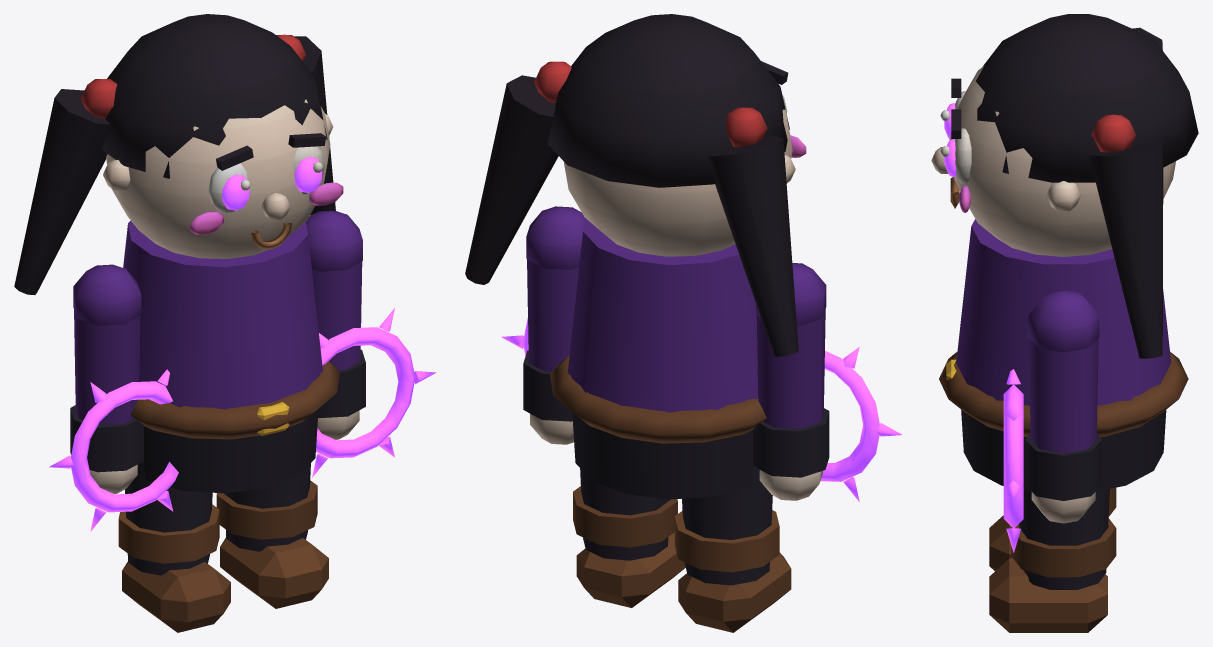
The model's file is hero_lilith.glb.
The picture shows the model from 3 angles, left to right: view 1: azimuth 30°, elevation 25°; view 2: azimuth 150°, elevation 25°; view 3: azimuth 270°, elevation 25°; orthographic projection. The views are drawn at different scales.
Visible parts, largest first — view 1: body_t0_palette, arml_t0_palette, legl_t0_palette, legr_t0_palette, armr_t0_palette, arml_t0_shadow_glow, armr_t0_shadow_glow, body_t0_shadow_glow; view 2: body_t0_palette, legl_t0_palette, arml_t0_palette, legr_t0_palette, armr_t0_palette, arml_t0_shadow_glow; view 3: body_t0_palette, armr_t0_palette, legr_t0_palette, armr_t0_shadow_glow, legl_t0_palette, body_t0_shadow_glow.
Boxes of the visible parts, x1,y1,x2,y2 form: body_t0_palette: (14,14,343,493); arml_t0_palette: (70,264,143,493); legl_t0_palette: (118,462,230,632); legr_t0_palette: (216,463,328,608); armr_t0_palette: (306,210,365,439); arml_t0_shadow_glow: (49,369,178,531); armr_t0_shadow_glow: (312,308,436,477); body_t0_shadow_glow: (222,157,322,210); body_t0_palette: (465,14,806,499); legl_t0_palette: (674,467,791,632); arml_t0_palette: (753,263,829,500); legr_t0_palette: (573,468,685,607); armr_t0_palette: (523,206,585,444); arml_t0_shadow_glow: (820,347,902,501); body_t0_palette: (931,14,1198,491); armr_t0_palette: (1025,289,1102,523); legr_t0_palette: (989,489,1116,632); armr_t0_shadow_glow: (1003,369,1023,552); legl_t0_palette: (989,487,1116,570); body_t0_shadow_glow: (944,103,956,176).
Bounding box in the file's own units: 0.364 × 0.508 × 0.214.
